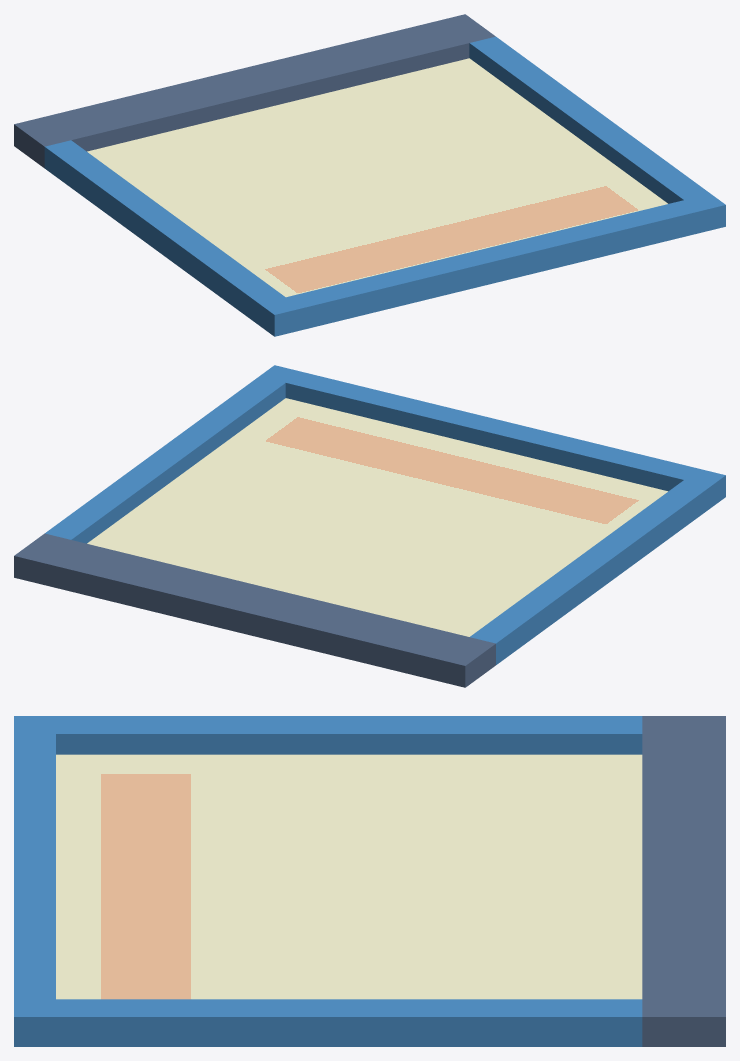
File: Window1.fbx
3 views of the same model, one above another, from view 1: azimuth 30°, elevation 25°; view 2: azimuth 150°, elevation 25°; view 3: azimuth 270°, elevation 25° (orthographic). The views are drawn at different scales.
Parts seen in each view (by area): view 1: Plane; view 2: Plane; view 3: Plane.
Boxes of the visible parts, x1=… form: Plane: x1=14, y1=14, x2=725, y2=336; Plane: x1=14, y1=365, x2=725, y2=687; Plane: x1=14, y1=716, x2=725, y2=1046.
Size of the model in its own units: 1 by 0.0462 by 1.
1 material, 1 textured.
